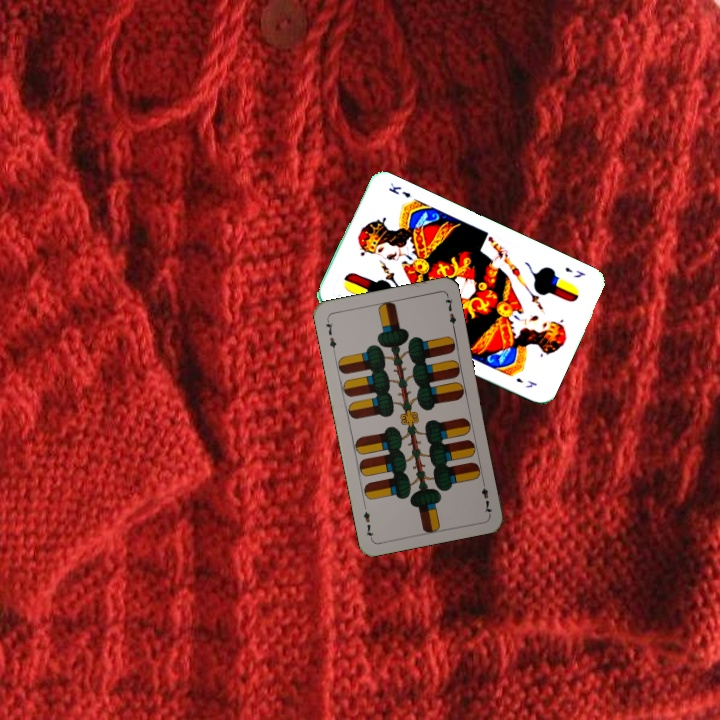E7: (321, 315, 339, 355), (477, 477, 494, 517)
EK: (561, 263, 588, 280)
